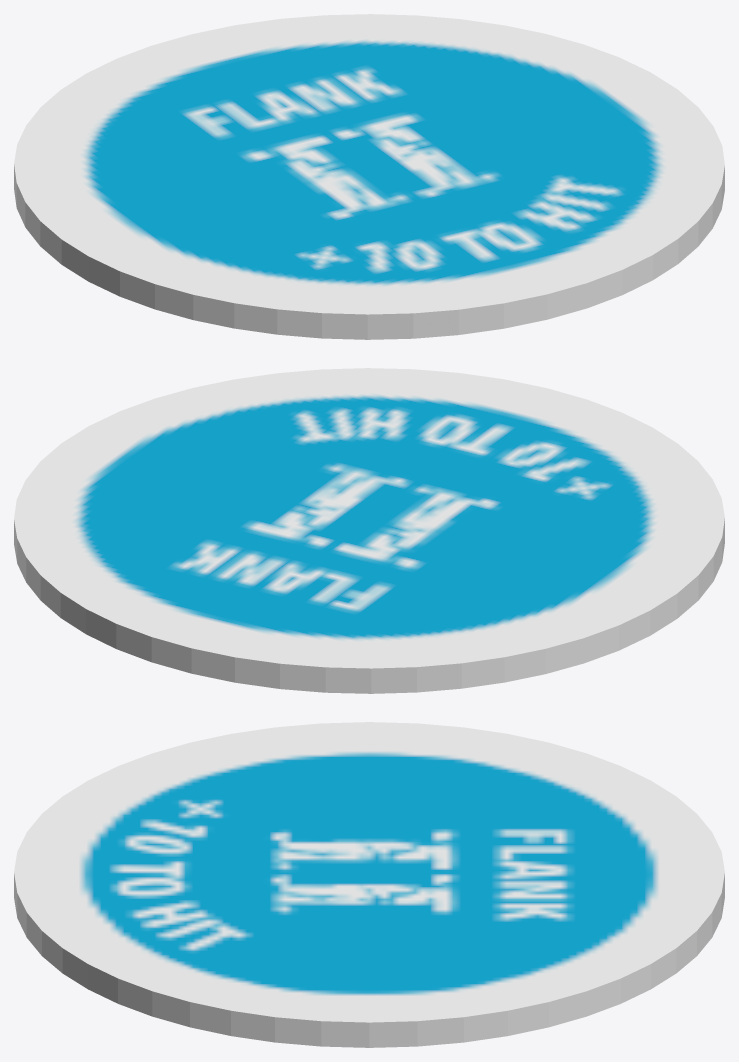
3 views of the same model, one above another, from view 1: azimuth 30°, elevation 25°; view 2: azimuth 150°, elevation 25°; view 3: azimuth 270°, elevation 25° (orthographic).
Parts seen in each view (by area): view 1: Curve.009_Curve.788; view 2: Curve.009_Curve.788; view 3: Curve.009_Curve.788.
Part boxes in pixels (left/top/right/bottom): Curve.009_Curve.788: left=14, top=14, right=724, bottom=339; Curve.009_Curve.788: left=14, top=368, right=724, bottom=693; Curve.009_Curve.788: left=14, top=722, right=724, bottom=1047.
Size of the model in its own units: 1 by 0.0394 by 1.
